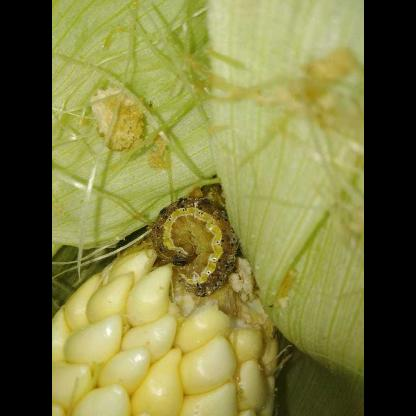Fall Armyworm Larvae: (148, 194, 242, 298)
